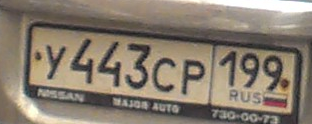character: (96, 33, 123, 89), (124, 42, 151, 94), (68, 35, 95, 86), (179, 57, 205, 102), (151, 52, 176, 97), (237, 49, 260, 91), (261, 52, 281, 93), (45, 43, 65, 82), (220, 49, 237, 89)
